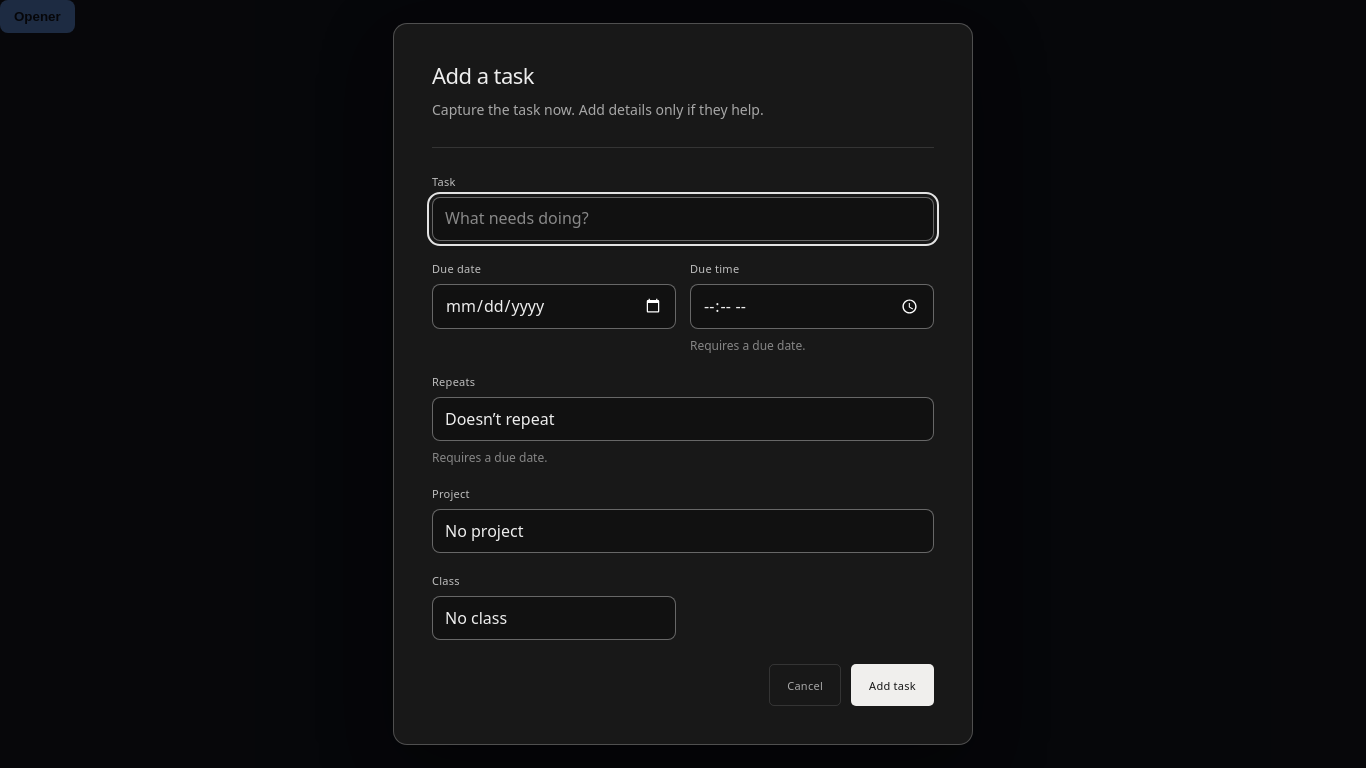
Test: TodoFormDialog create mode › preserves exact values after a failed save, hides raw errors, and permits retry
The image size is (1366, 768).
Later steps or results of the test are not shown.
Type "Keep me" into the field labelled "Task" at point(683, 219), box [432, 197, 934, 241]
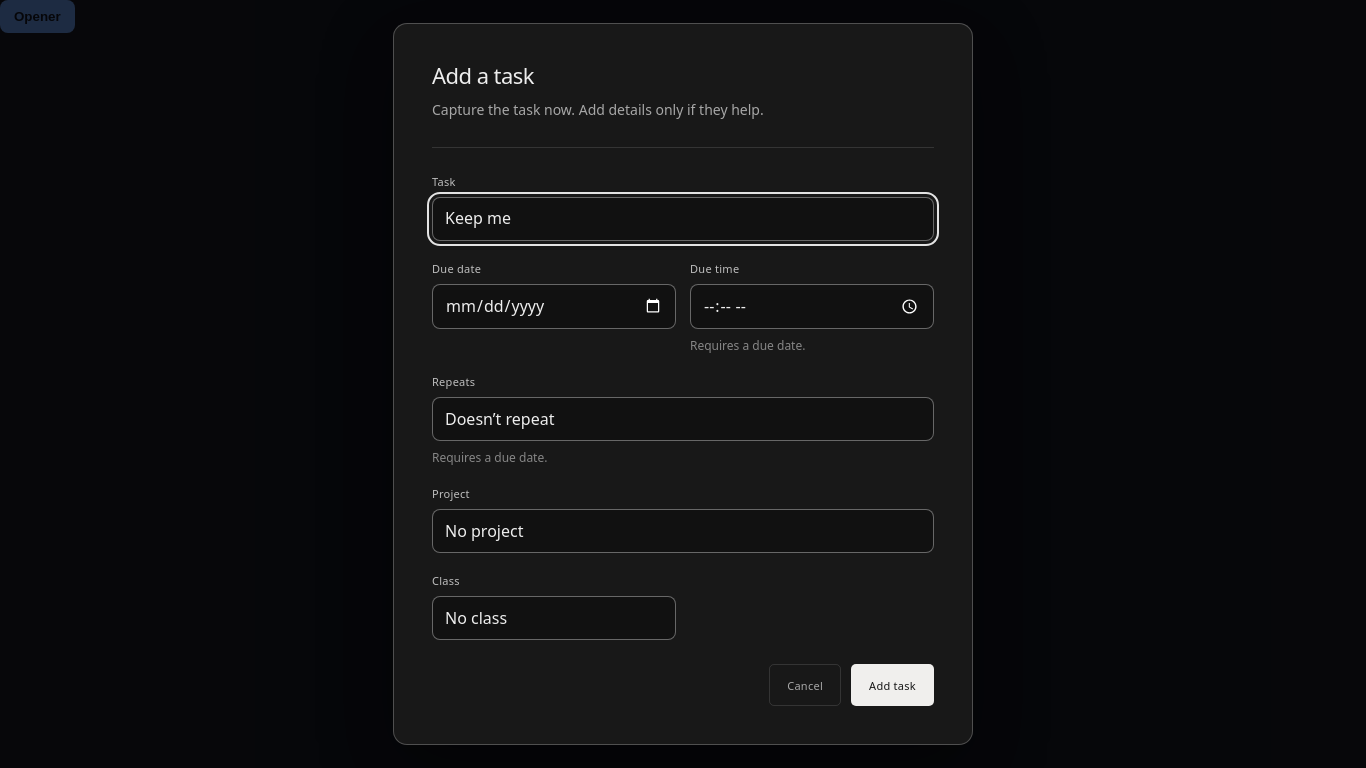
Click the button "Add task" at point(893, 685), box [851, 664, 934, 706]
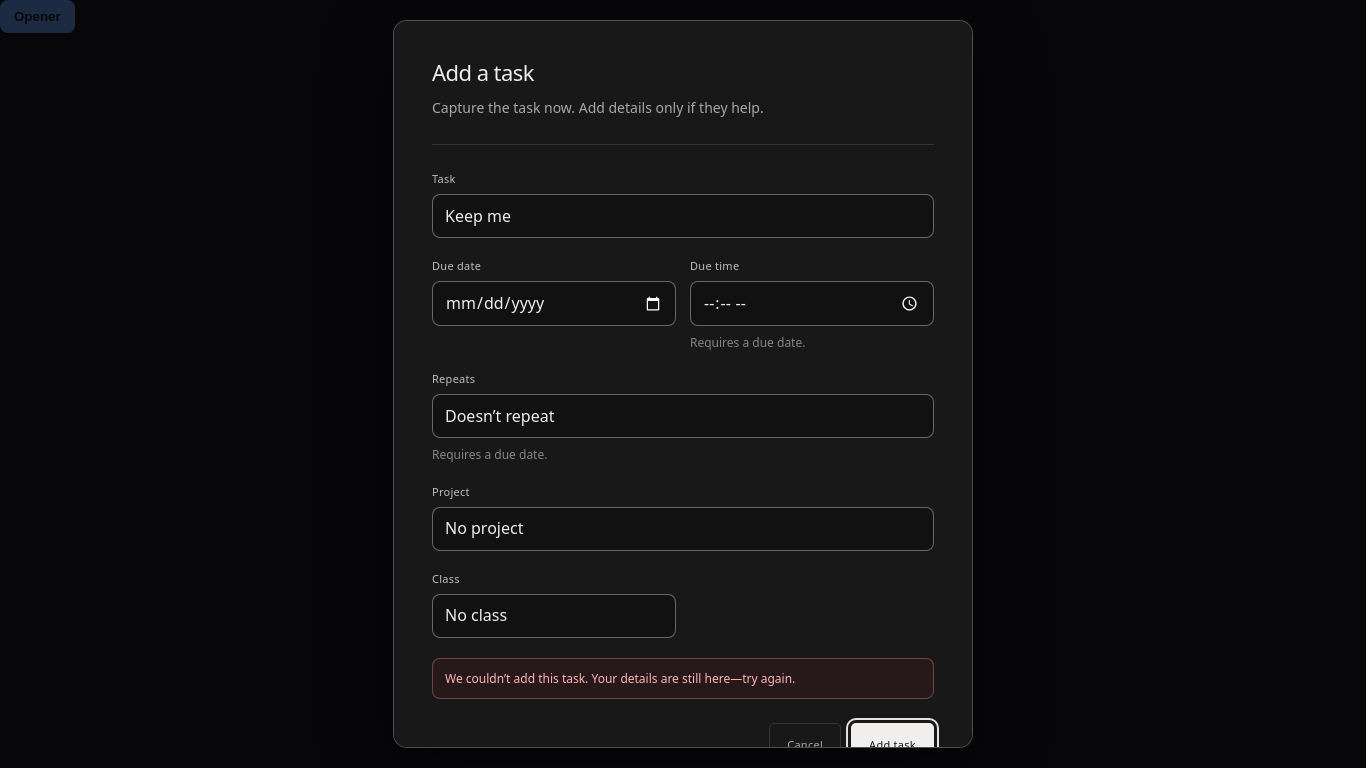
Result: the text "We couldn’t add this task. Your details are still here—try again." is shown at [432, 658, 934, 699]
